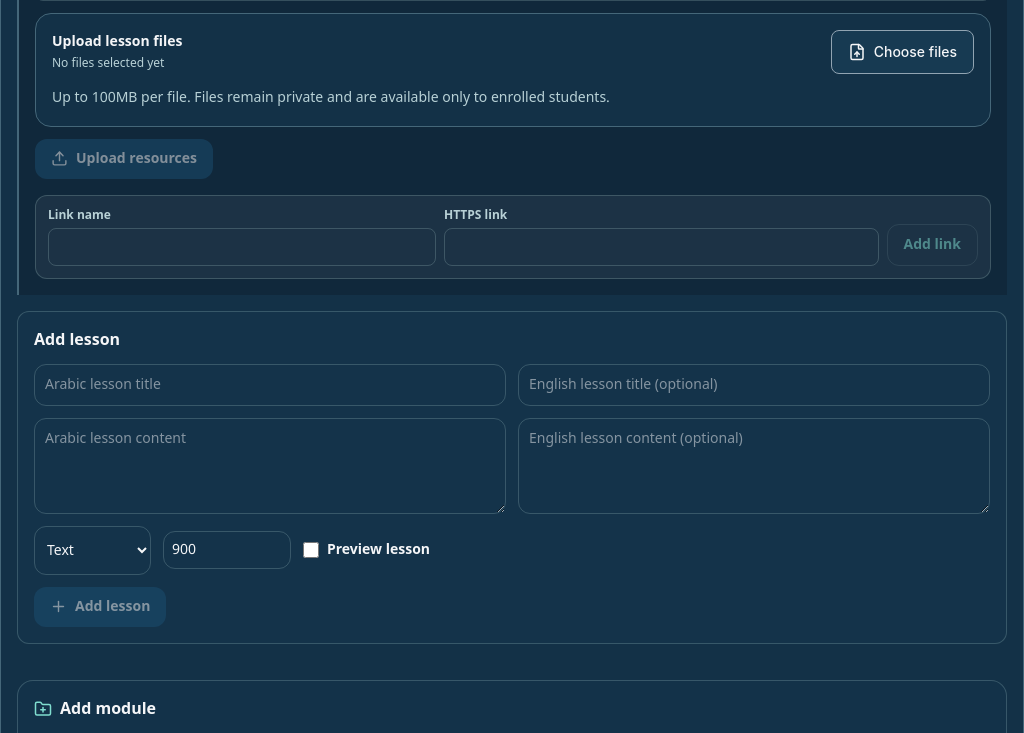
Test case: teacher curriculum translation (en) › preserves lesson creation fallbacks, numeric duration, ordering, internal types and reset defaults
(page scrolled)
Step 1. Type " درس " into the field with placeholder "Arabic lesson title" → [270, 385], box x1=34 y1=364 x2=506 y2=406
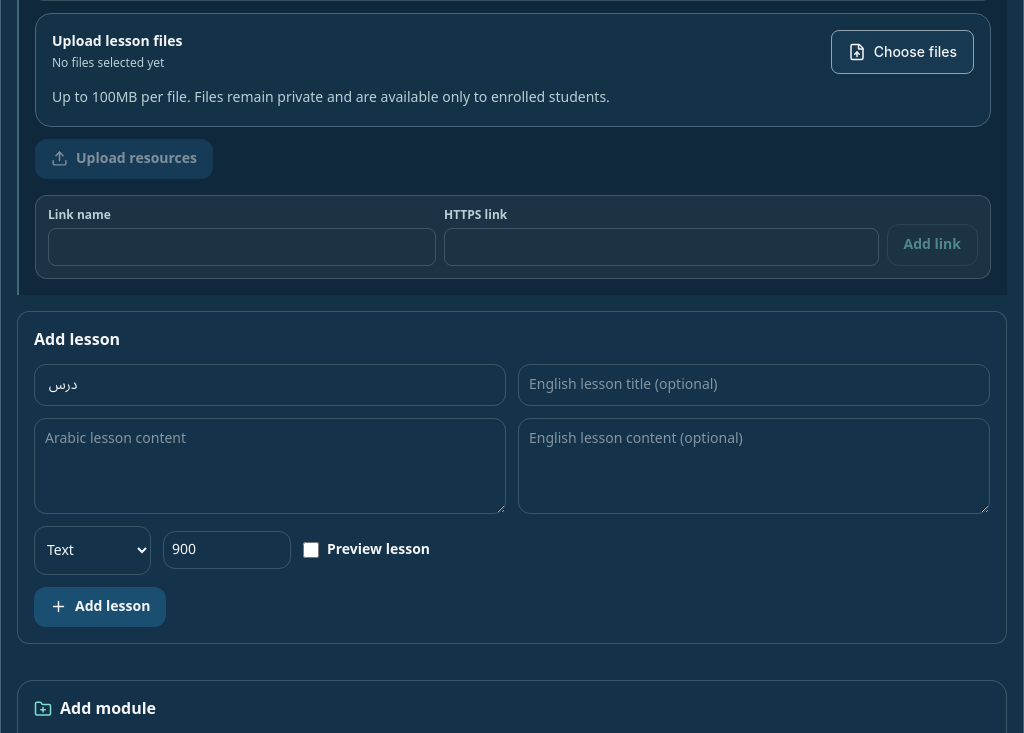
Step 2. Type " نص " into the text box with placeholder "Arabic lesson content" → [270, 466], box x1=34 y1=418 x2=506 y2=514
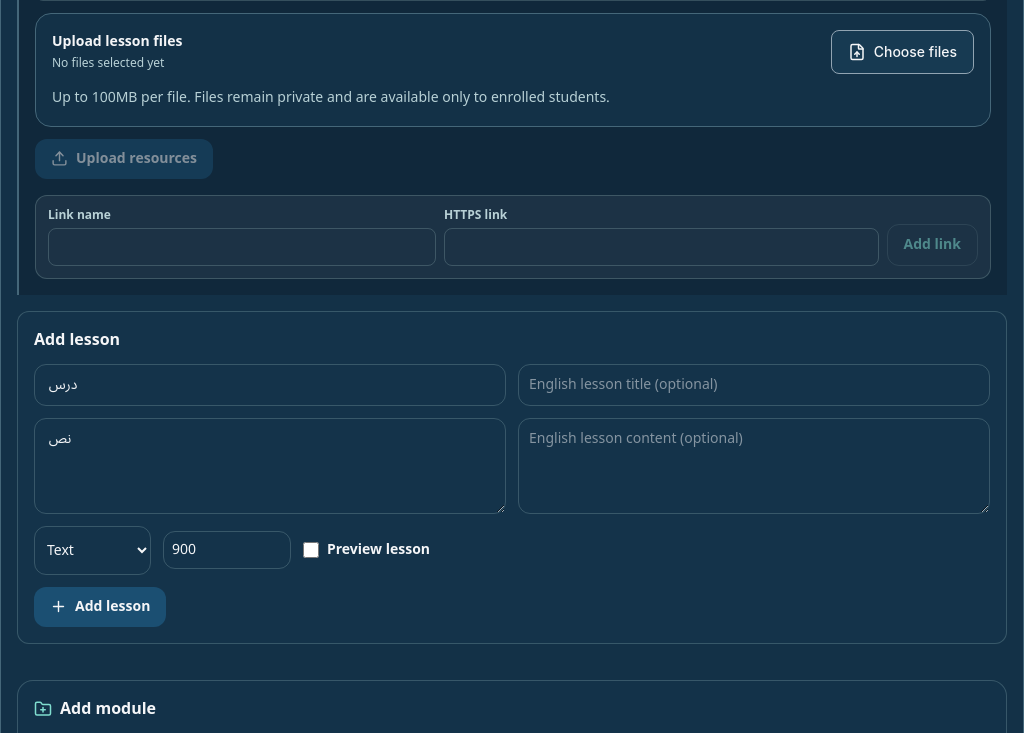
Step 3. Replace the text in the number field named "Lesson duration in seconds" with "120" → [227, 550], box x1=163 y1=531 x2=291 y2=569
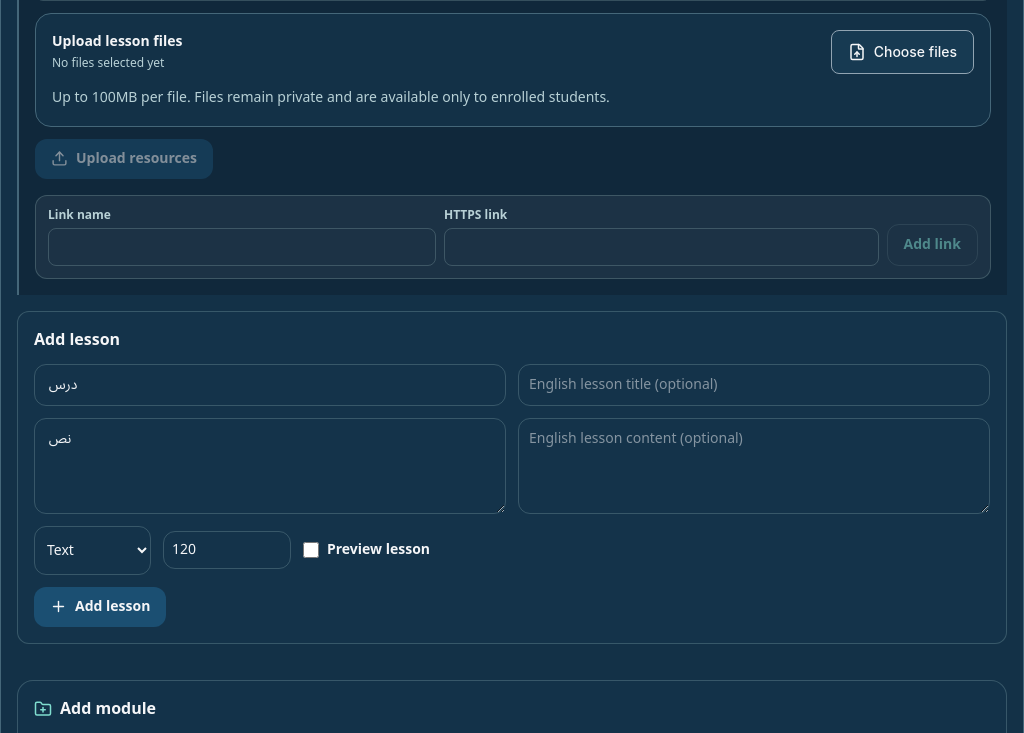
Step 4. Click the checkbox labelled "Preview lesson" → [311, 550], box x1=303 y1=542 x2=319 y2=558
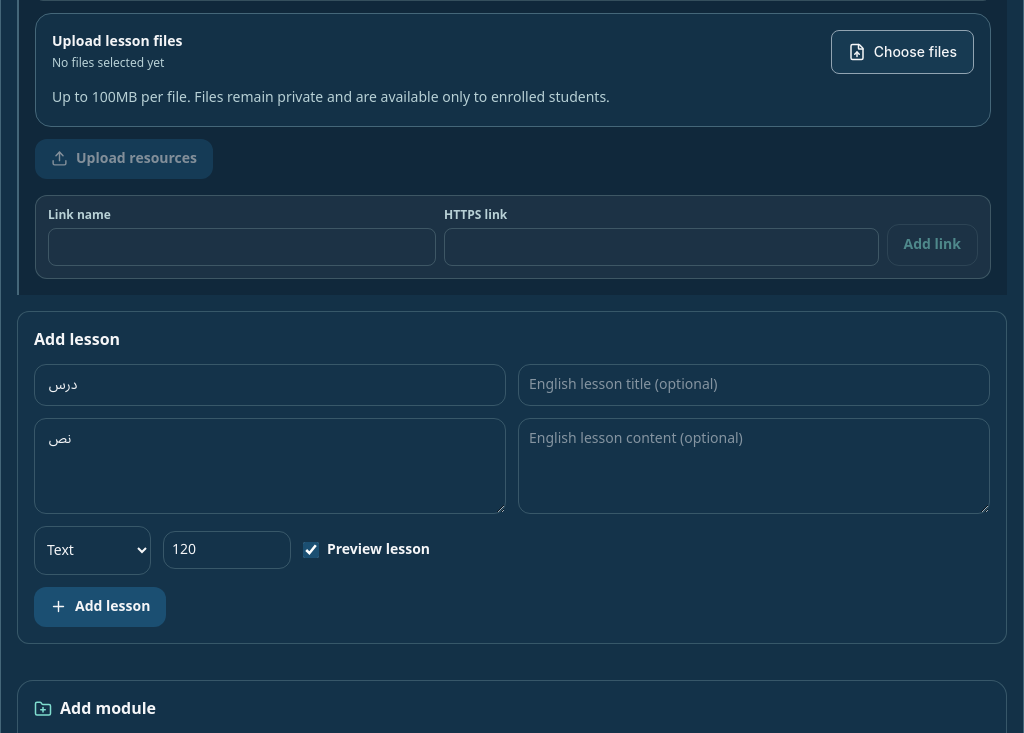
Step 5. Select "Activity" in the dropdown → [92, 550], box x1=34 y1=526 x2=151 y2=575
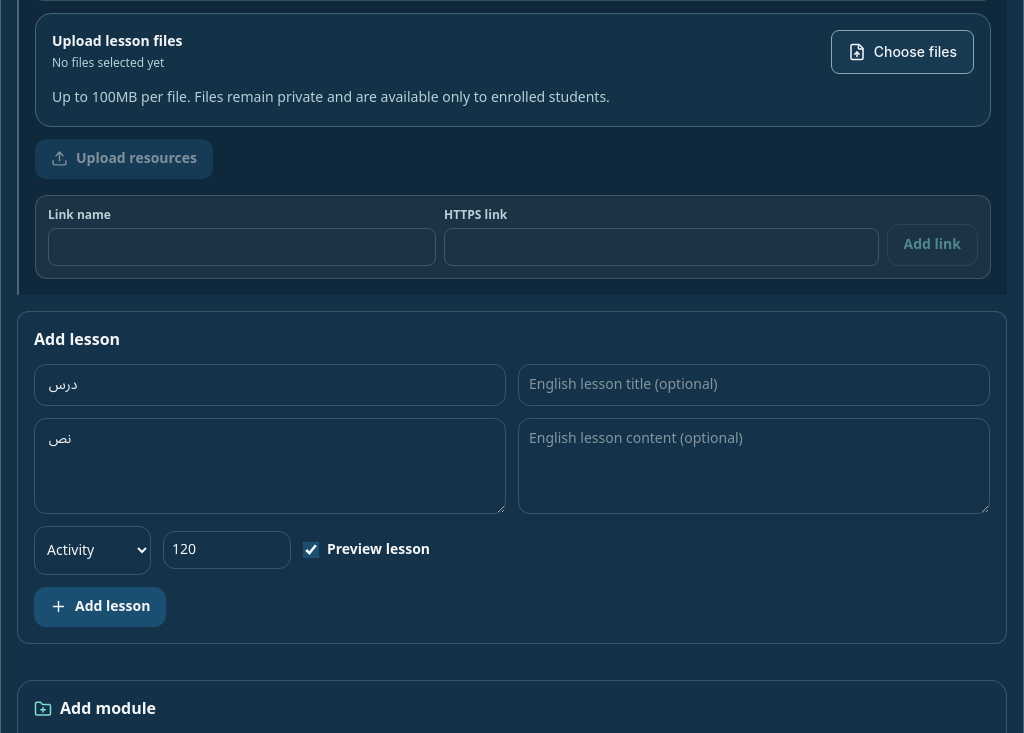
Step 6. Click the button "Add lesson" → [100, 607], box x1=34 y1=587 x2=166 y2=627
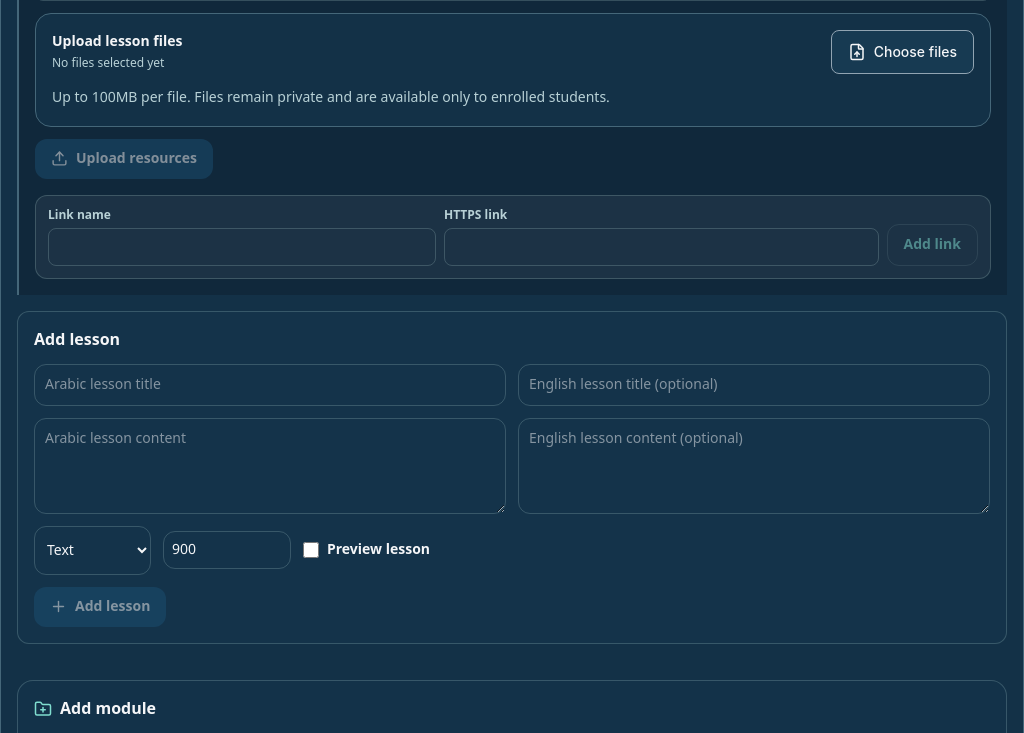
Check: the field with placeholder "Arabic lesson title" is empty, box x1=34 y1=364 x2=506 y2=406
Check: the text box with placeholder "Arabic lesson content" is empty, box x1=34 y1=418 x2=506 y2=514
Check: the number field named "Lesson duration in seconds" holds "900", box x1=163 y1=531 x2=291 y2=569
